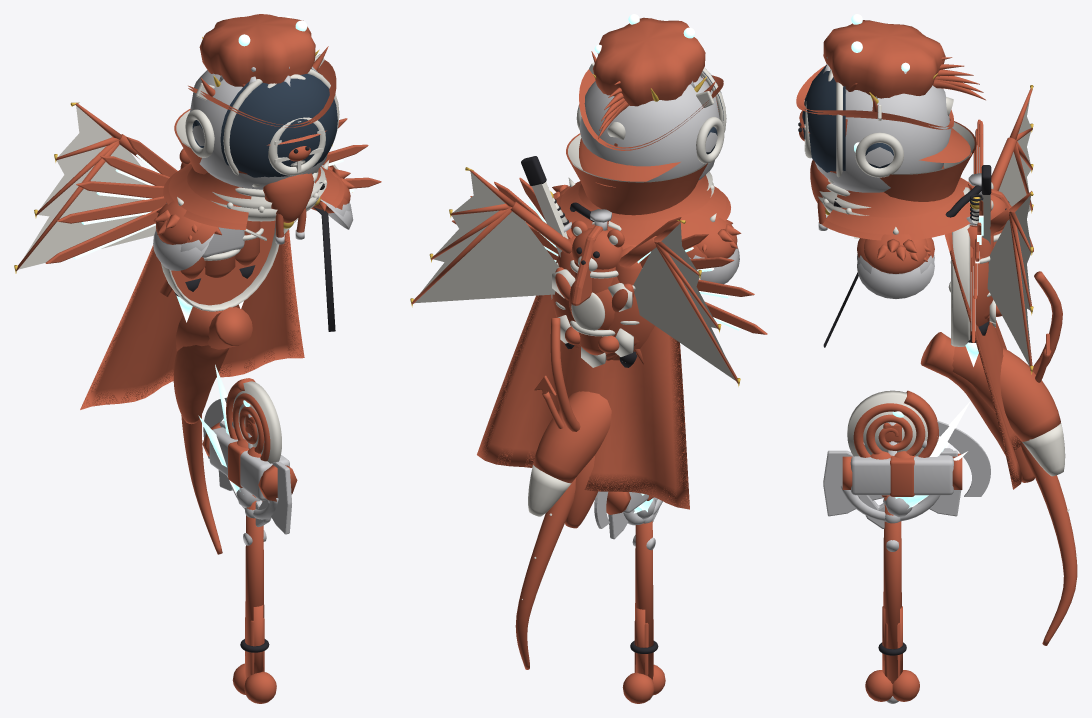
Rendered from skins.glb.
3 views of the same model, side by side, from view 1: azimuth 30°, elevation 25°; view 2: azimuth 150°, elevation 25°; view 3: azimuth 270°, elevation 25° (orthographic). The views are drawn at different scales.
Visible parts, largest first — view 1: acc_mochila_capa, acc_casco_espacial, acc_mochila_alas_dragon, acc_mochila_alas_mecha, acc_gorro_chef, acc_casco_buzo, acc_capucha, acc_mochila_caparazon, pico_hueso, acc_cola_dragon, pico_chupetin, pico_martillo (+16 smaller); view 2: acc_mochila_capa, acc_mochila_alas_dragon, acc_casco_buzo, acc_gorro_chef, acc_cola_zorro, acc_capucha, acc_mochila_osito, acc_cuello_vampiro, acc_mochila_alas_mecha, pico_hueso, acc_mochila_caparazon, acc_cola_dragon (+15 smaller); view 3: acc_casco_buzo, acc_mochila_alas_dragon, acc_gorro_chef, acc_cola_zorro, acc_capucha, pico_chupetin, pico_martillo, pico_hueso, acc_cola_dragon, acc_casco_espacial, acc_mochila_caparazon, acc_mochila_capa (+18 smaller).
Boxes of the visible parts, box(x1,y1,x2,y2) form: acc_mochila_capa: box(80, 197, 320, 409); acc_casco_espacial: box(212, 16, 339, 208); acc_mochila_alas_dragon: box(14, 102, 352, 273); acc_mochila_alas_mecha: box(45, 118, 381, 263); acc_gorro_chef: box(199, 14, 315, 86); acc_casco_buzo: box(185, 66, 327, 221); acc_capucha: box(163, 74, 344, 230); acc_mochila_caparazon: box(161, 203, 279, 311); pico_hueso: box(232, 439, 276, 703); acc_cola_dragon: box(181, 307, 252, 554); pico_chupetin: box(226, 378, 281, 463); pico_martillo: box(202, 422, 297, 501); acc_mochila_capa: box(477, 294, 689, 509); acc_mochila_alas_dragon: box(410, 167, 740, 386); acc_casco_buzo: box(576, 76, 724, 197); acc_gorro_chef: box(593, 17, 705, 106); acc_cola_zorro: box(528, 391, 611, 516); acc_capucha: box(556, 76, 730, 245); acc_mochila_osito: box(555, 220, 634, 353); acc_cuello_vampiro: box(566, 133, 707, 215); acc_mochila_alas_mecha: box(452, 177, 767, 334); pico_hueso: box(622, 521, 665, 703); acc_mochila_caparazon: box(551, 221, 654, 367); acc_cola_dragon: box(515, 477, 576, 669); acc_casco_buzo: box(804, 85, 953, 215); acc_mochila_alas_dragon: box(987, 85, 1033, 374); acc_gorro_chef: box(823, 20, 945, 98); acc_cola_zorro: box(952, 346, 1065, 476); acc_capucha: box(822, 69, 970, 240); pico_chupetin: box(847, 390, 938, 457); pico_martillo: box(842, 448, 962, 496); pico_hueso: box(865, 451, 919, 701); acc_cola_dragon: box(920, 332, 1077, 645); acc_casco_espacial: box(802, 62, 909, 208); acc_mochila_caparazon: box(951, 187, 995, 346); acc_mochila_capa: box(945, 232, 1022, 489).
Bounding box in the file's own units: 1.19 × 2.3 × 0.8699.
